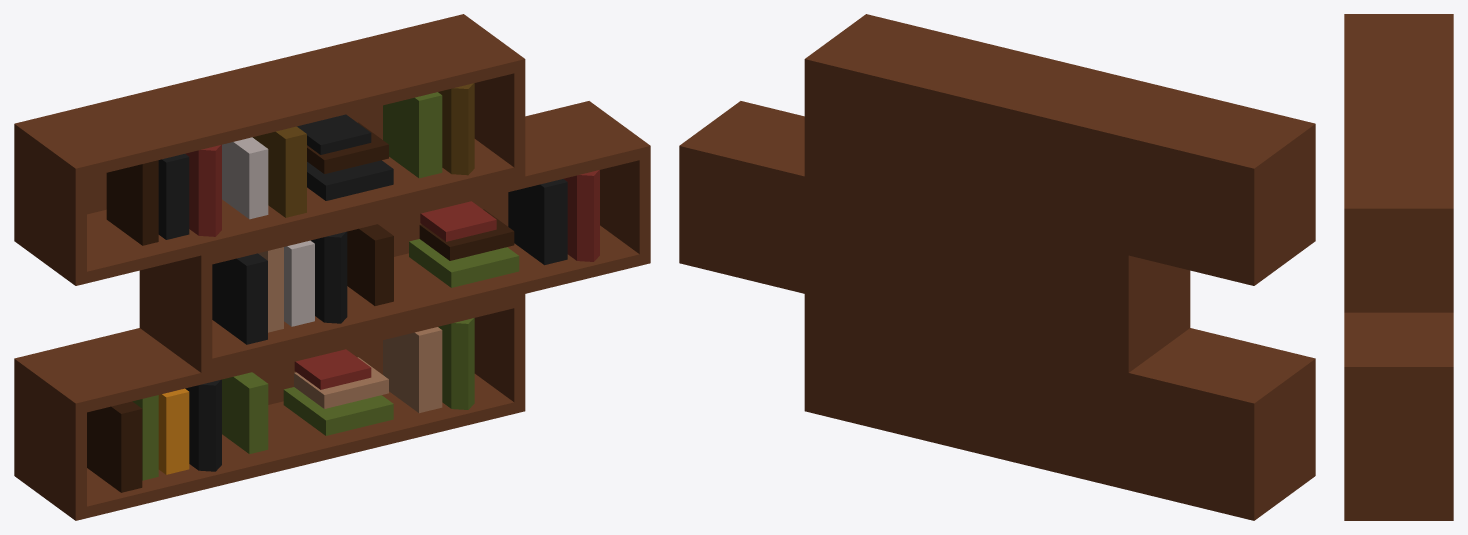
Rendered from ModernBookshelves.fbx.
3 renders of one model, left to right at view 1: azimuth 30°, elevation 25°; view 2: azimuth 150°, elevation 25°; view 3: azimuth 270°, elevation 25°, orthographic. The views are drawn at different scales.
Parts seen in each view (by area): view 1: ModernBookshelves; view 2: ModernBookshelves; view 3: ModernBookshelves.
Boxes of the visible parts, <box> form: ModernBookshelves: <box>14,14,650,520</box>; ModernBookshelves: <box>679,14,1315,520</box>; ModernBookshelves: <box>1344,14,1453,520</box>.
Size of the model in its own units: 404 by 237 by 74.93.
